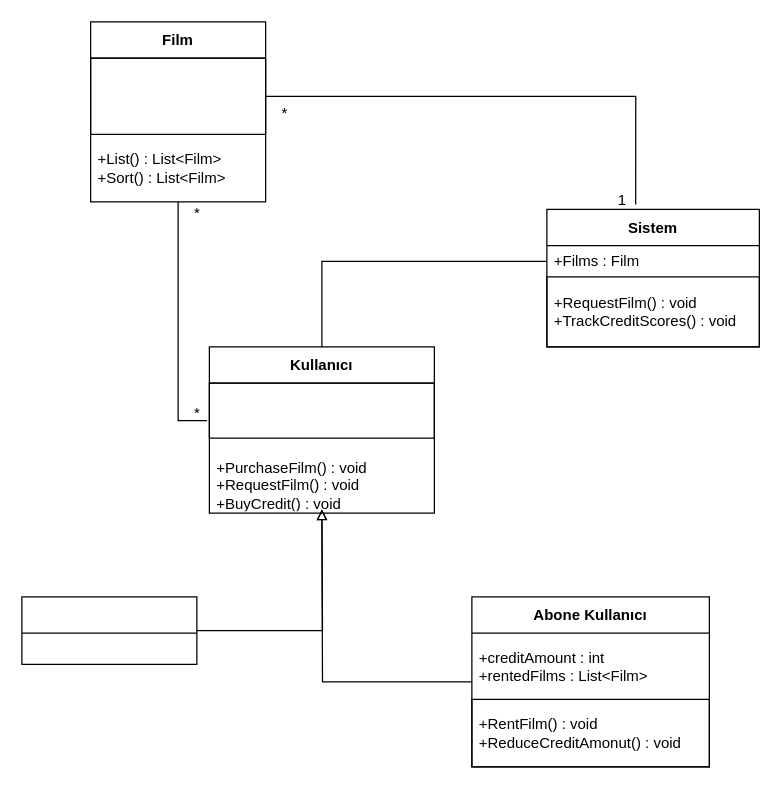
Some shapes in this 781 by 789 pixel diagram are drawn without their labels. Here are the shapes that lost their labels. From the top down, the centre of each, then its label:
At (177,95): "+id :int +name : string +views : long".
At (321,410): "+purchasedFilms : List<Film>".
At (109,630): "Normal Kullanıcı".
